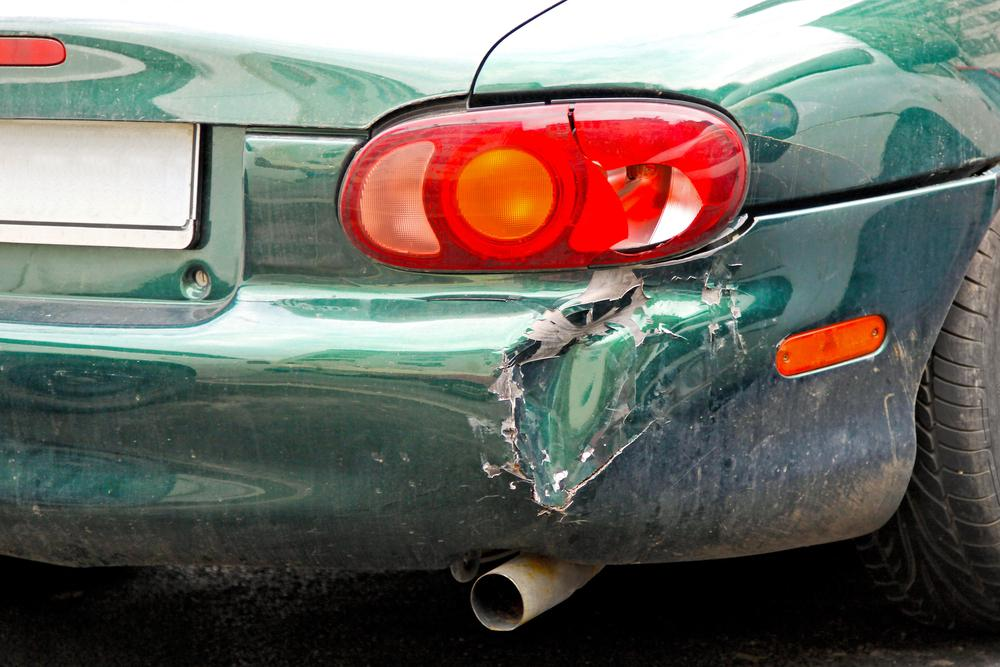crack: (571, 420, 656, 506)
dent: (511, 276, 782, 514)
lamp broken: (337, 95, 750, 271)
